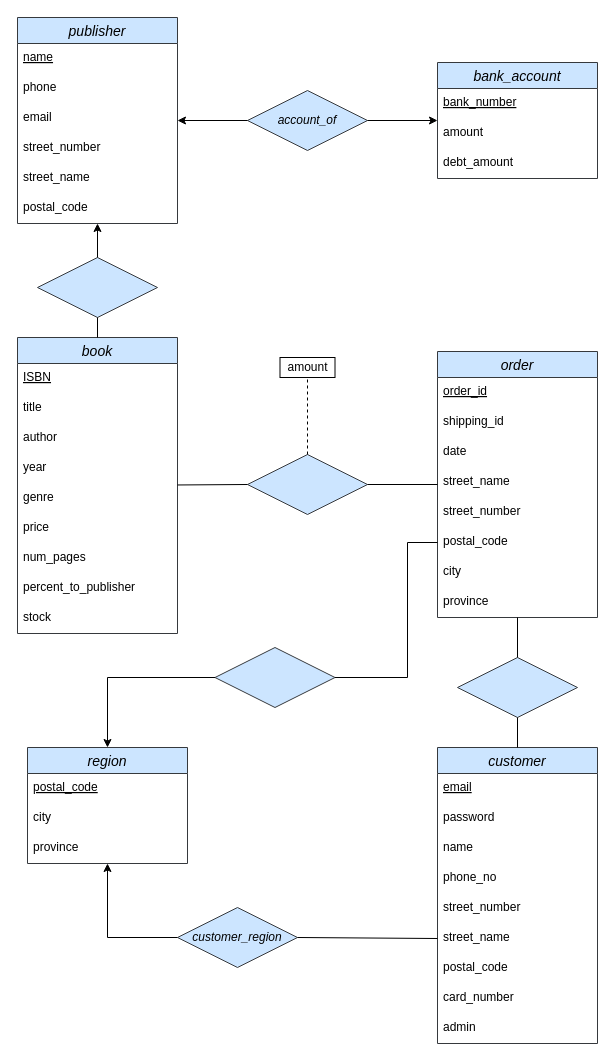
Some shapes in this 615 by 1064 pixel diagram are drawn without their labels. Here are the shapes that lost their labels. From the top down, the centre of each, then its label:
(x=97, y=287): publishes
(x=307, y=484): books_in_order
(x=274, y=677): order_region
(x=517, y=687): order_of
